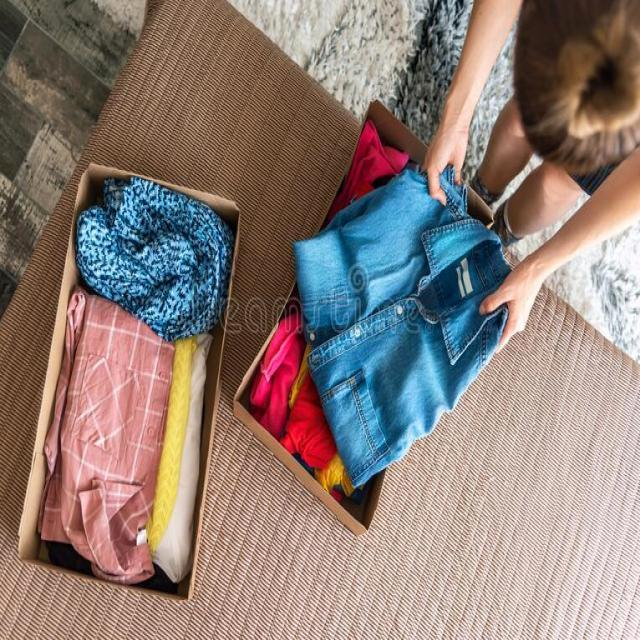clothes: (276, 196, 516, 482), (56, 300, 180, 561), (80, 199, 215, 329)
